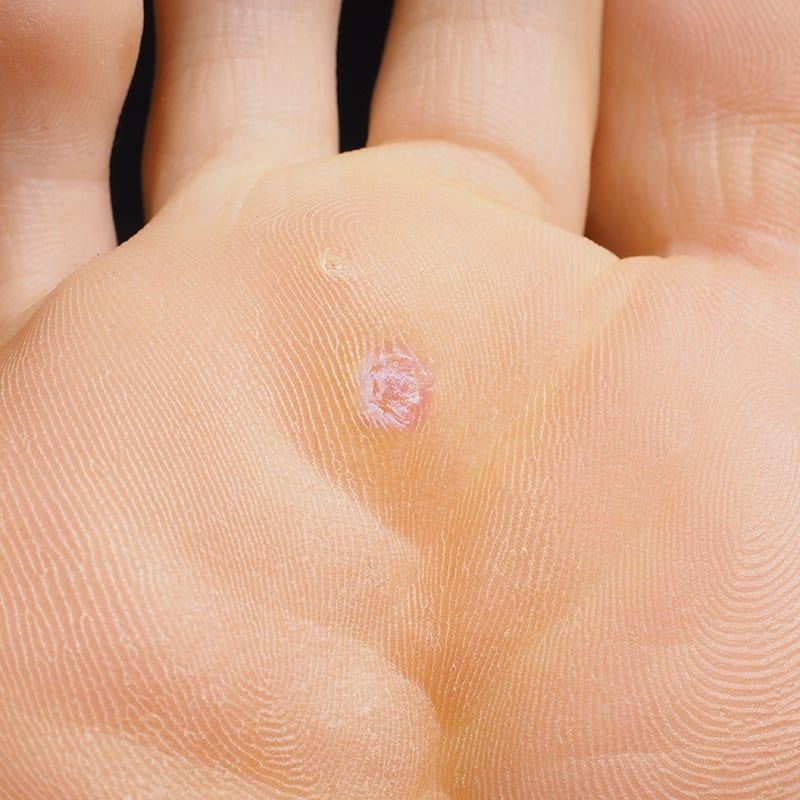Warts: (298, 233, 466, 475)
